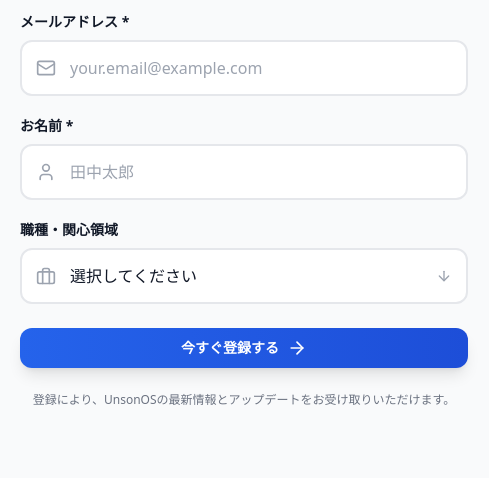
it: WaitlistForm Component › should clear validation errors when user corrects input
The width and height of the screenshot is (489, 478).
まずバリデーションエラーを発生させる
Click the button "今すぐ登録する" at x=244, y=348, box 20,328 -> 468,368
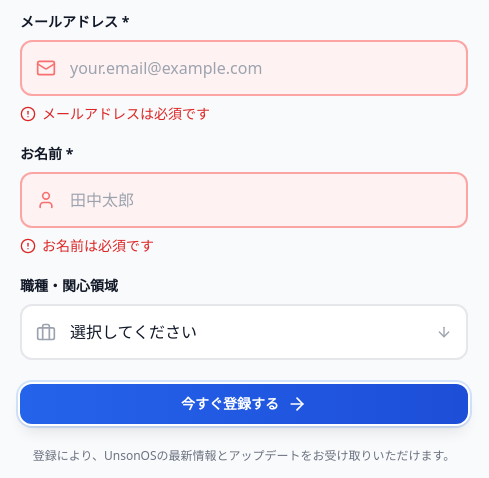
Expected: the text "メールアドレスは必須です" is shown, 20,104 -> 210,123
正しい値を入力してエラーがクリアされることを確認
Type "valid@example.com" into the field labelled "メールアドレス *" at x=244, y=68, box 20,40 -> 468,96
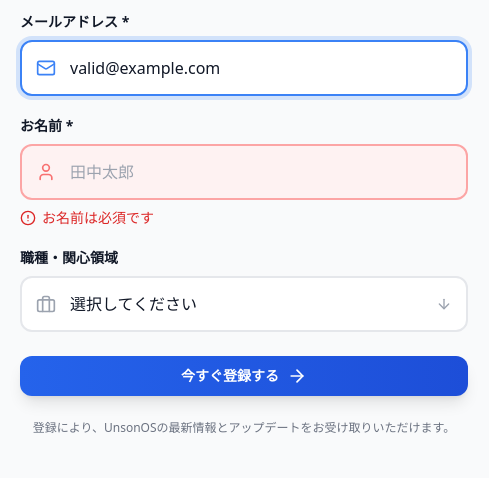
Expected: the text "メールアドレスは必須です" is gone
